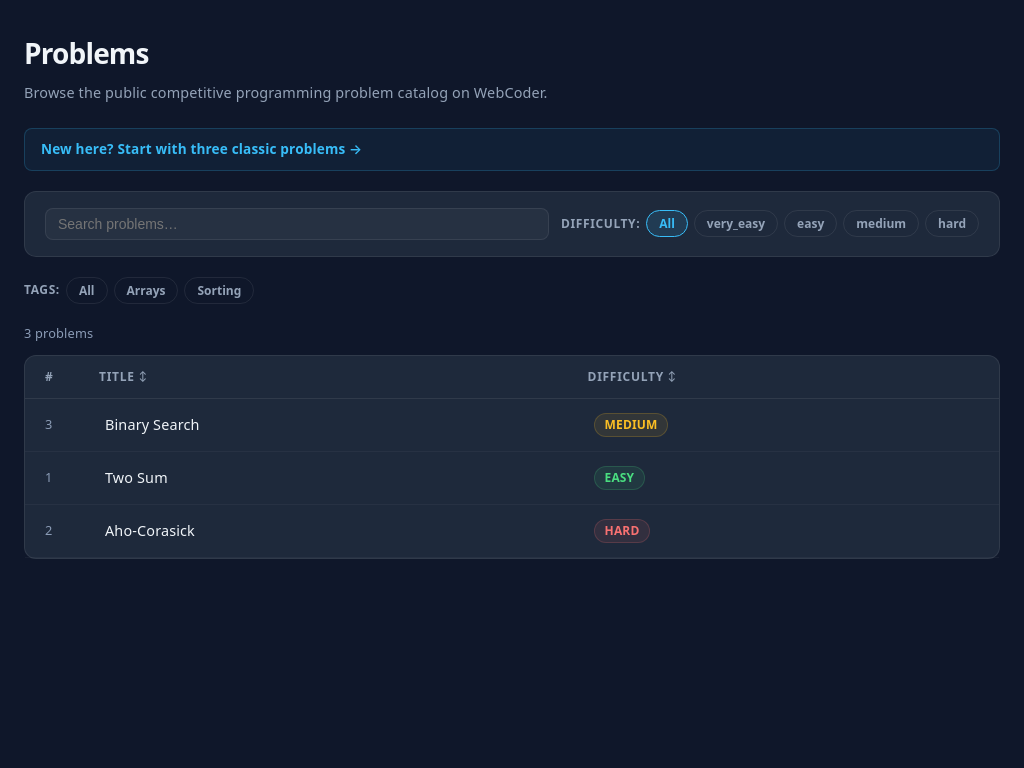
Test case: Wave A: tag facet [F4] + solved indicators [F5] + curriculum axis [EDU-9] › filters by a selected tag chip
Click the button "Arrays": x=146, y=290 [114,277,178,304]
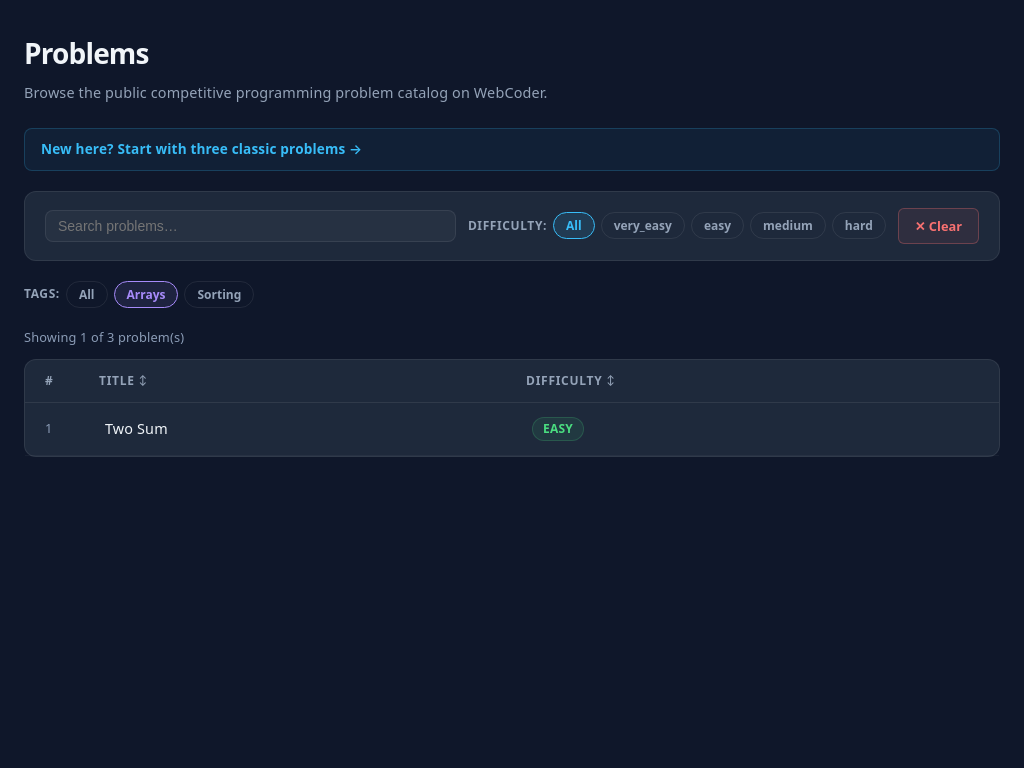
Expected: the link "Two Sum" is shown, [105,419,168,438]
Now the link "Aho-Corasick" is gone
